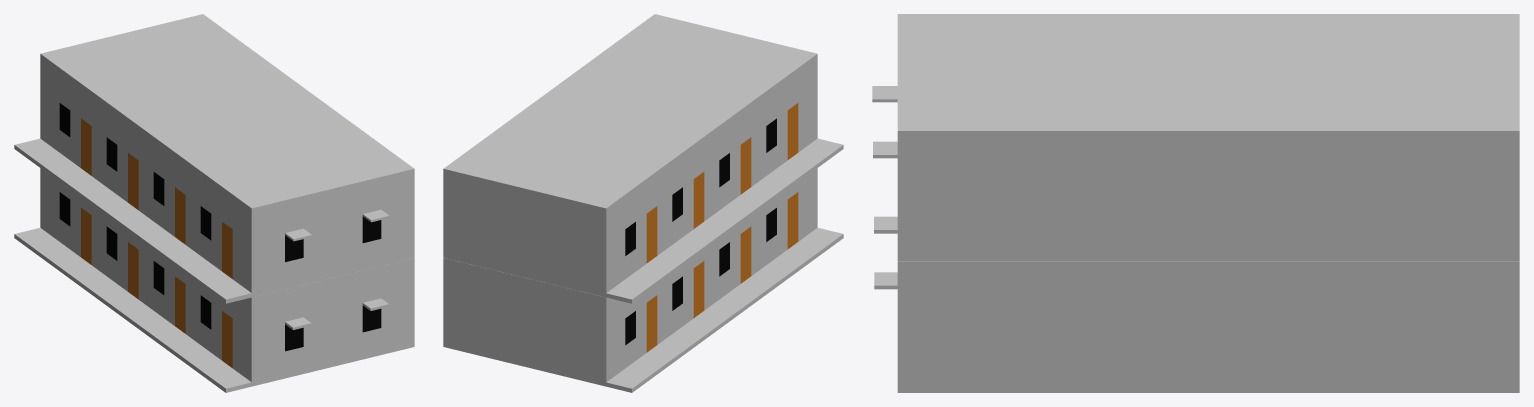
File: MedicalCenter.FBX
The picture shows the model from 3 angles, left to right: view 1: azimuth 30°, elevation 25°; view 2: azimuth 150°, elevation 25°; view 3: azimuth 270°, elevation 25°; orthographic projection. The views are drawn at different scales.
Visible parts, largest first — view 1: Plane.029; view 2: Plane.029; view 3: Plane.029.
Boxes of the visible parts, x1=… form: Plane.029: x1=14, y1=14, x2=414, y2=392; Plane.029: x1=443, y1=14, x2=843, y2=392; Plane.029: x1=872, y1=14, x2=1519, y2=392.
Size of the model in its own units: 51 by 103 by 46.03.
